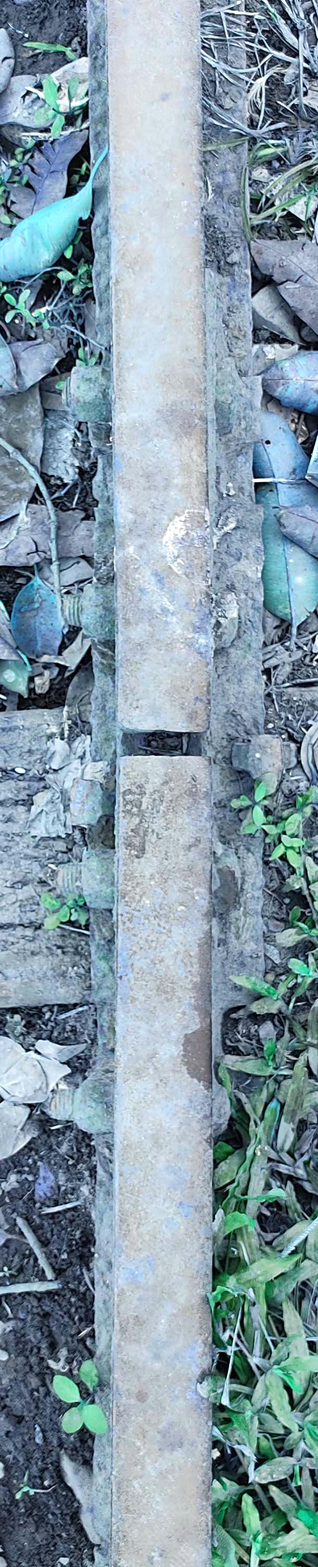duan lie: (113, 700, 242, 813)
